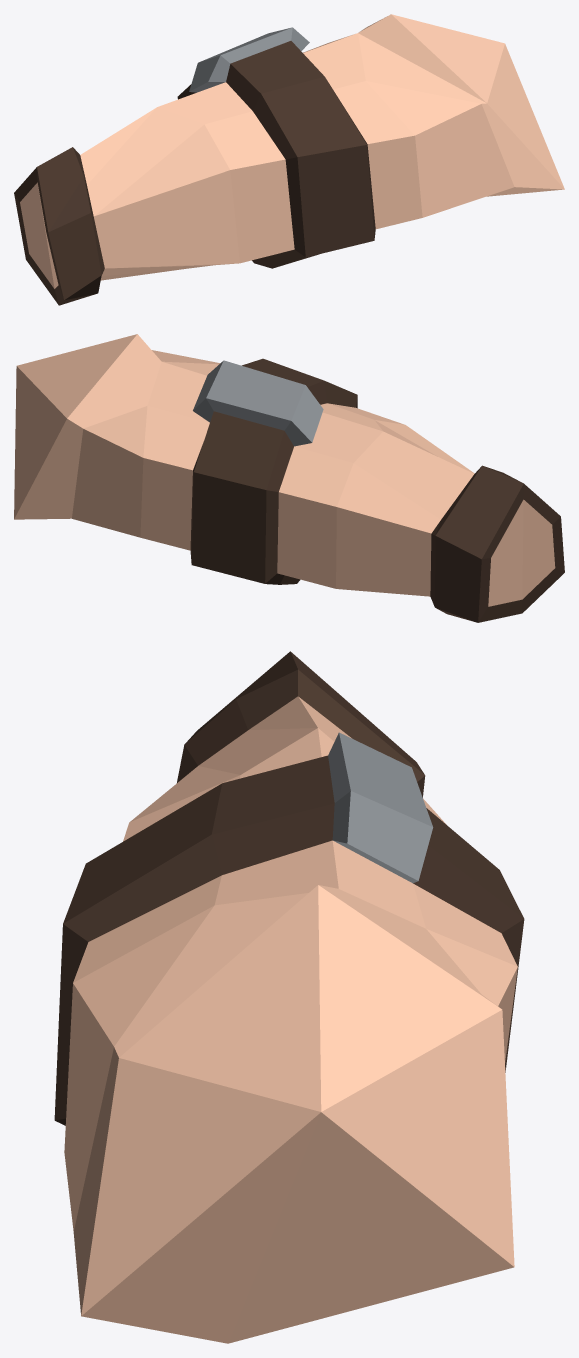
File: Chr_ArmUpperRight_Female_16_Static.fbx
3 renders of one model, top to bottom at view 1: azimuth 30°, elevation 25°; view 2: azimuth 150°, elevation 25°; view 3: azimuth 270°, elevation 25°, orthographic. The views are drawn at different scales.
Parts seen in each view (by area): view 1: Chr_ArmUpperRight_Female_16_Static; view 2: Chr_ArmUpperRight_Female_16_Static; view 3: Chr_ArmUpperRight_Female_16_Static.
Part boxes in pixels (bbox=[...]): Chr_ArmUpperRight_Female_16_Static: bbox=[14, 14, 564, 305]; Chr_ArmUpperRight_Female_16_Static: bbox=[14, 334, 564, 622]; Chr_ArmUpperRight_Female_16_Static: bbox=[54, 651, 524, 1343].
Bounding box in the file's own units: 0.3536 × 0.1464 × 0.1475.
